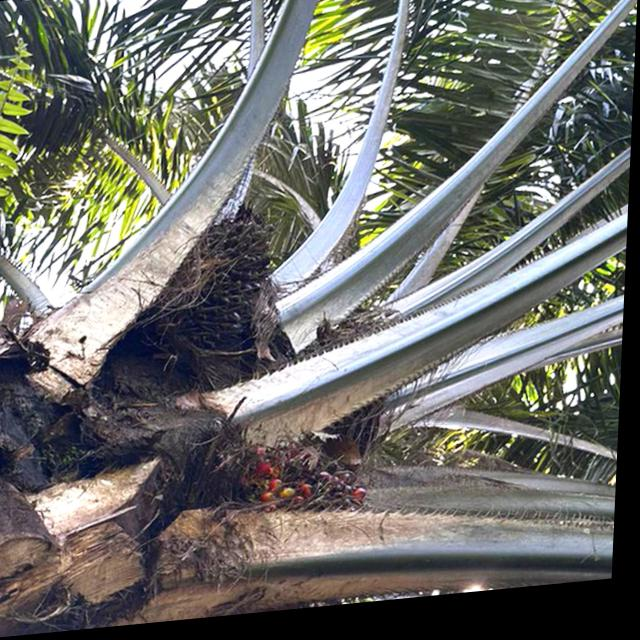almost: (134, 205, 286, 394)
